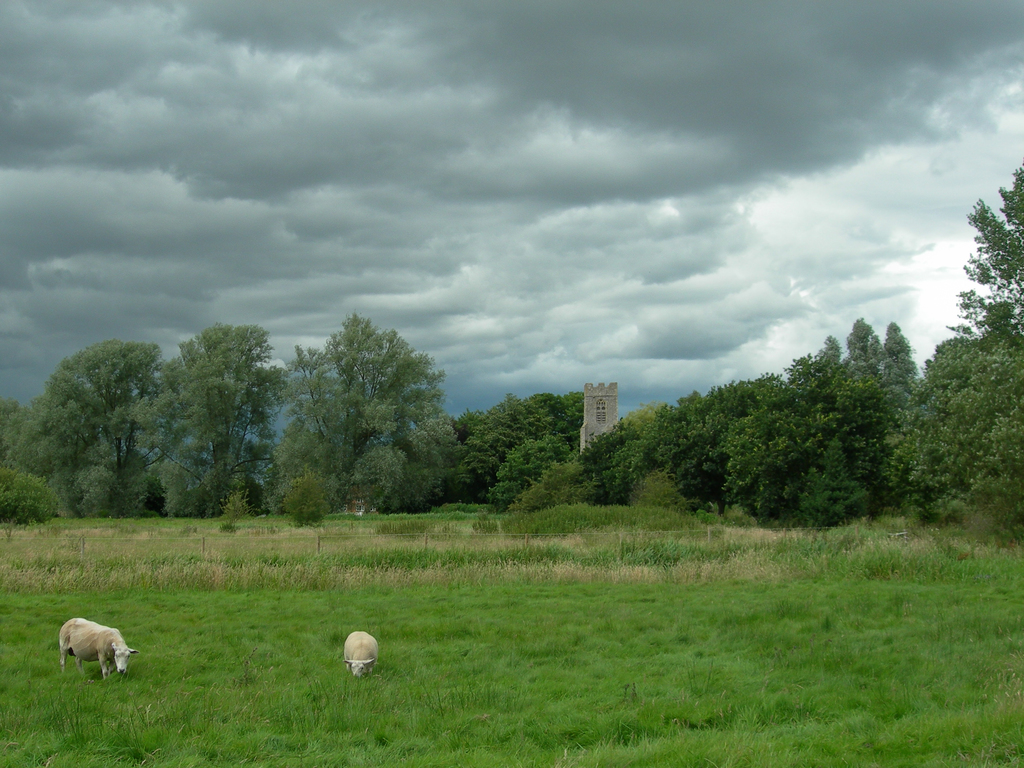sheep: (346, 632, 380, 677)
